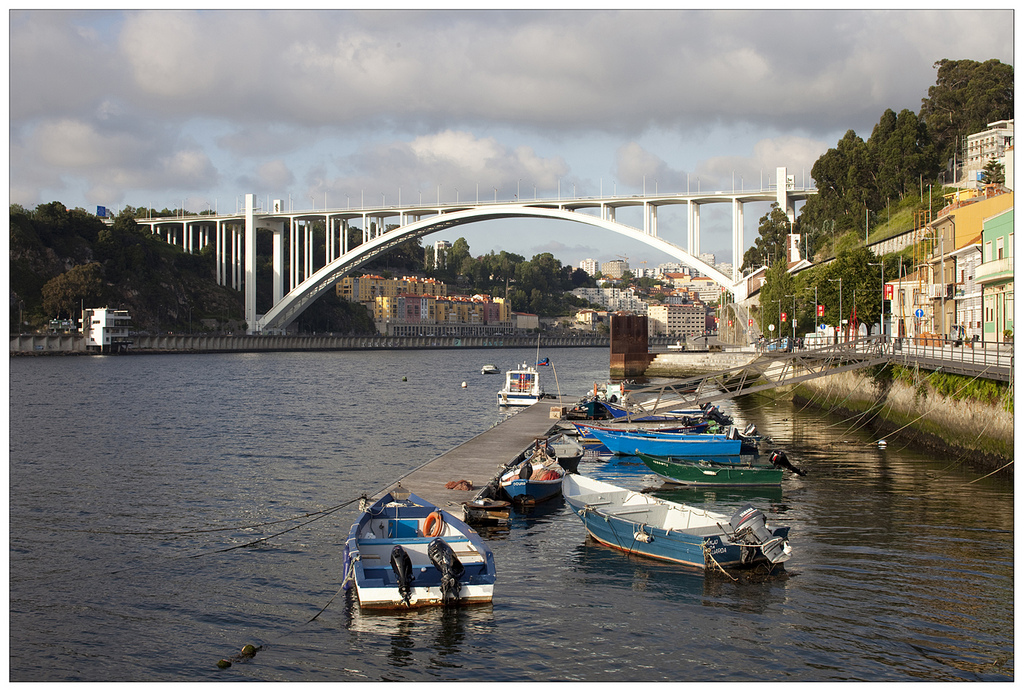arrabida: (137, 166, 821, 335)
